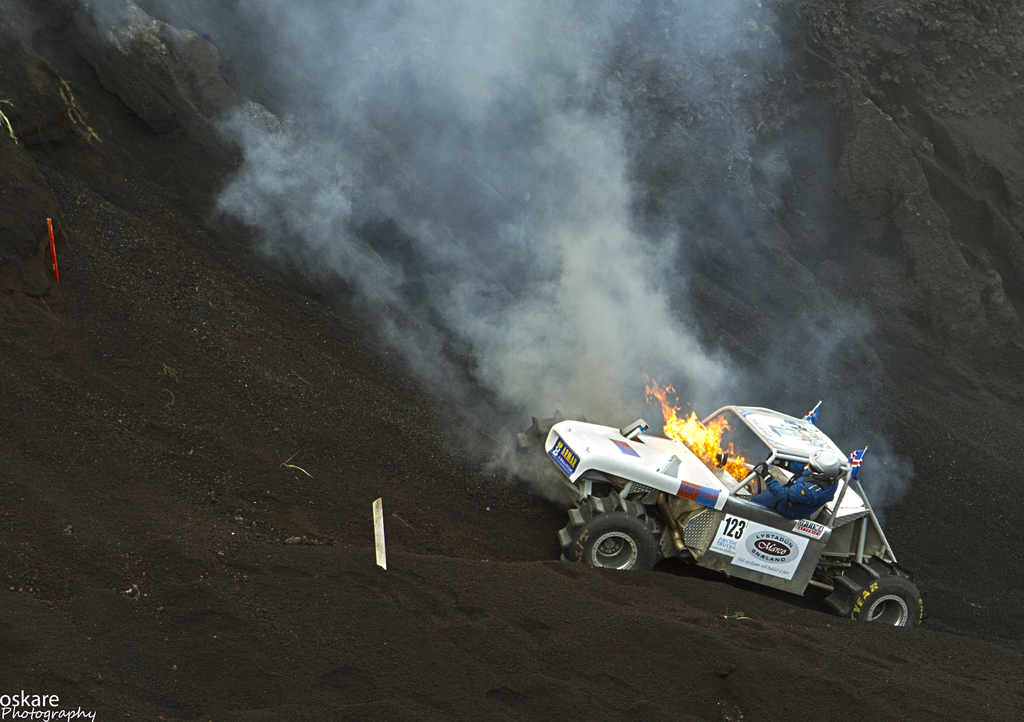cars: (494, 400, 921, 631)
